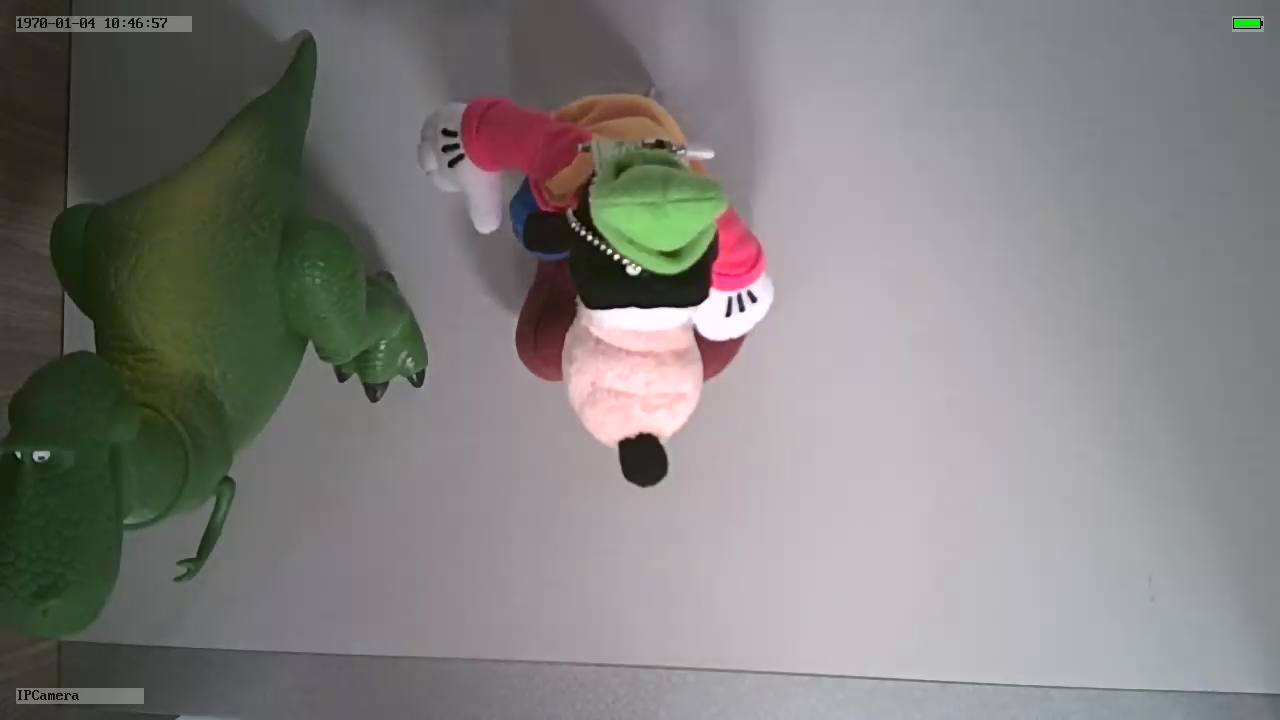goofy: (418, 94, 778, 492)
